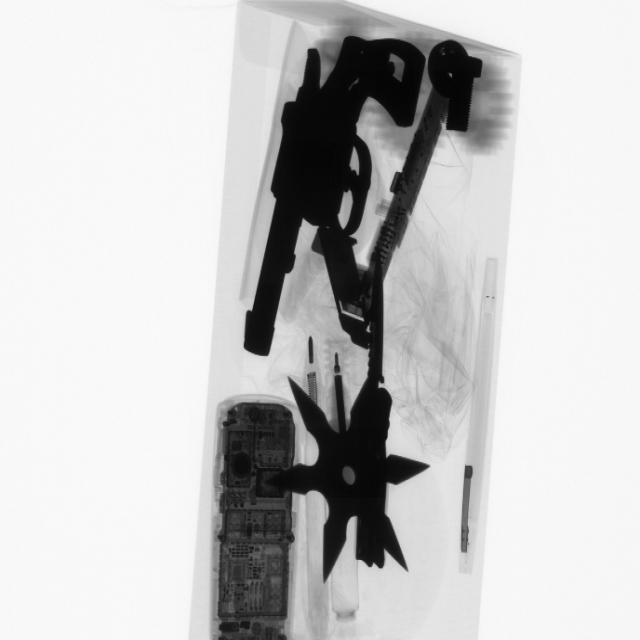GUN: (234, 26, 421, 352)
SHURIKEN: (273, 361, 425, 583)
